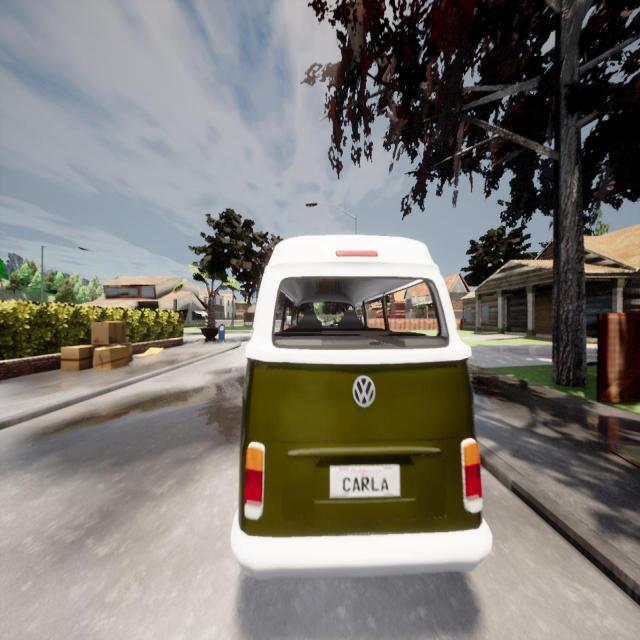Vehicle: (231, 235, 491, 578)
traffic_light: (174, 299, 178, 310)
